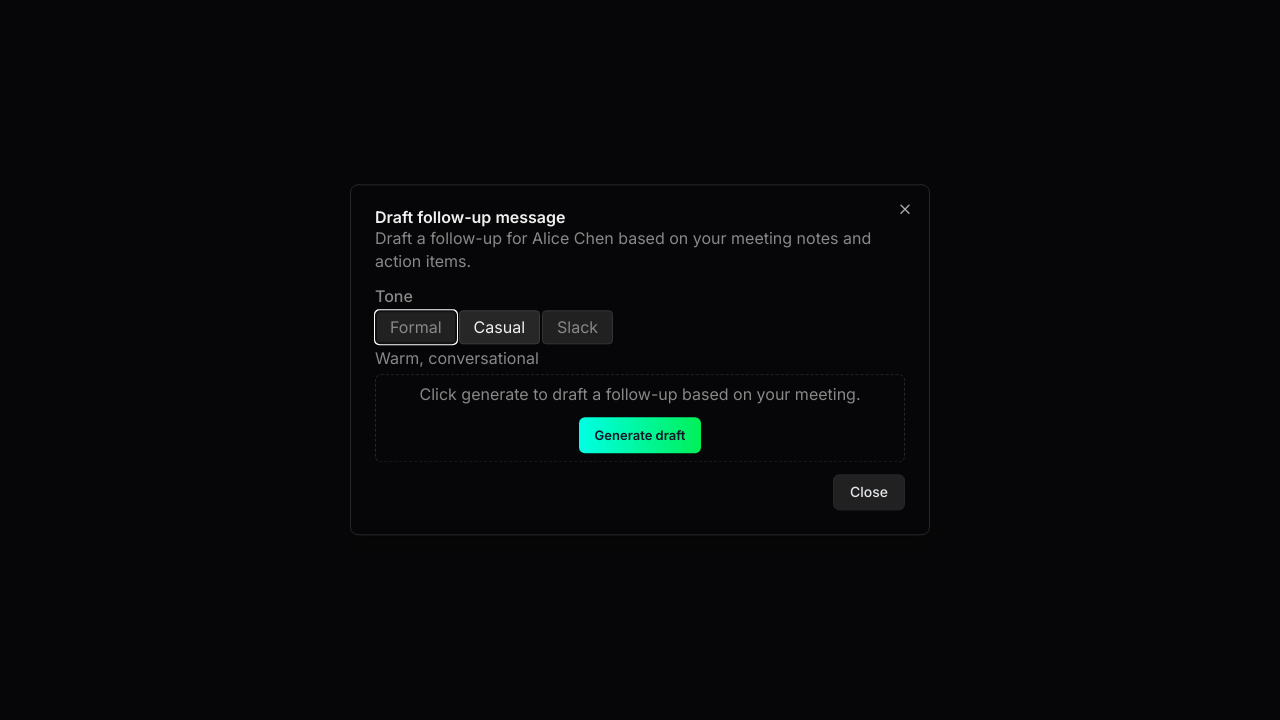
Scenario: FollowUpDraftModal › switches tone description when another tone is selected
The image size is (1280, 720).
Click the button "Formal" at (416,327), box x1=375 y1=310 x2=457 y2=344
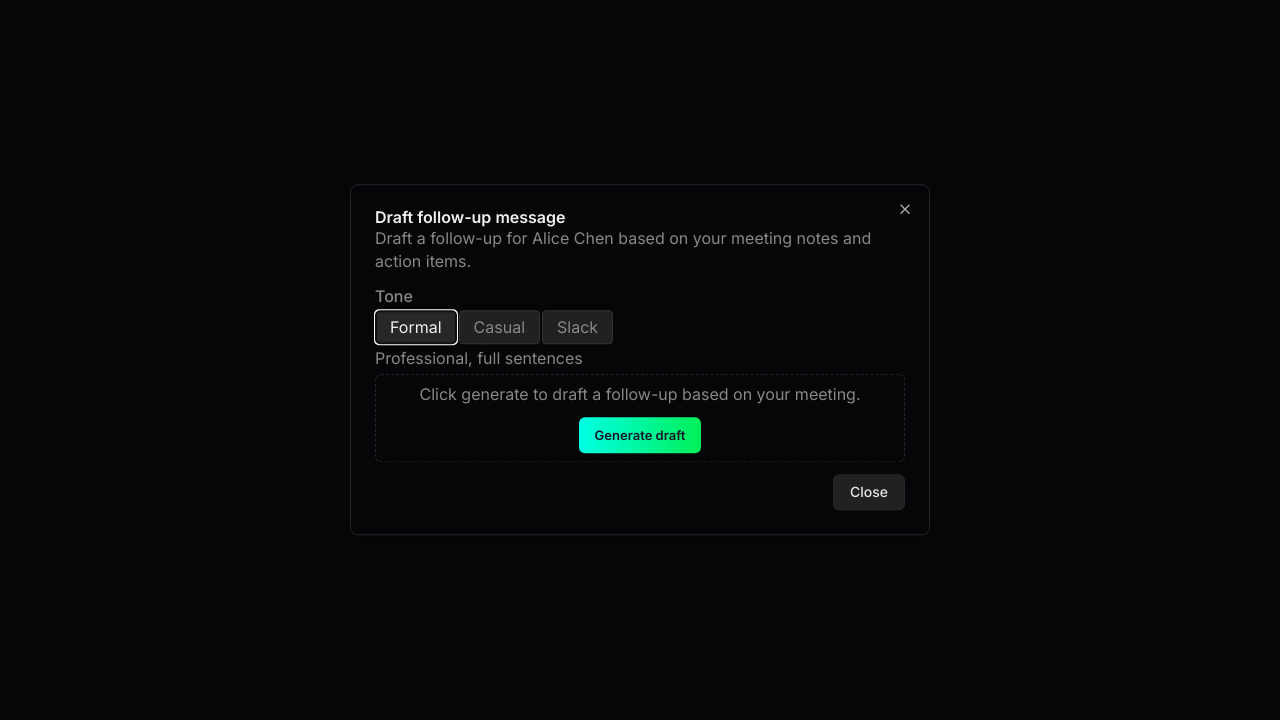
expect the text "Professional, full sentences" is shown: met, box x1=375 y1=348 x2=583 y2=368
